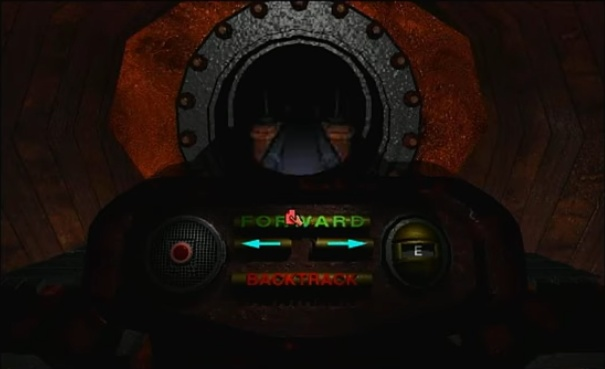Keep: (283, 205, 306, 229)
